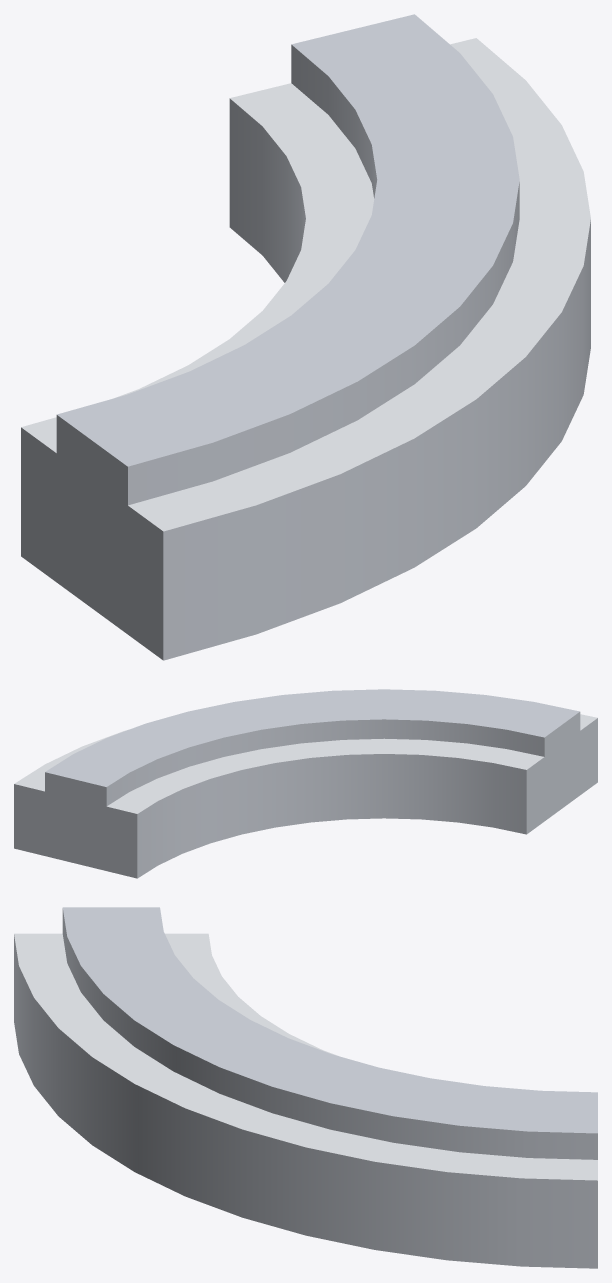
File: monorail_trackCornerSmall.glb
3 views of the same model, one above another, from view 1: azimuth 30°, elevation 25°; view 2: azimuth 150°, elevation 25°; view 3: azimuth 270°, elevation 25° (orthographic). The views are drawn at different scales.
Parts seen in each view (by area): view 1: monorail_trackCornerSmall; view 2: monorail_trackCornerSmall; view 3: monorail_trackCornerSmall.
Boxes of the visible parts, left/top/right/bottom form: monorail_trackCornerSmall: left=21, top=14, right=590, bottom=660; monorail_trackCornerSmall: left=14, top=689, right=597, bottom=878; monorail_trackCornerSmall: left=14, top=907, right=597, bottom=1268.
Size of the model in its own units: 0.6 by 0.13 by 0.6.
Materials: 1 (1 with a texture image).
